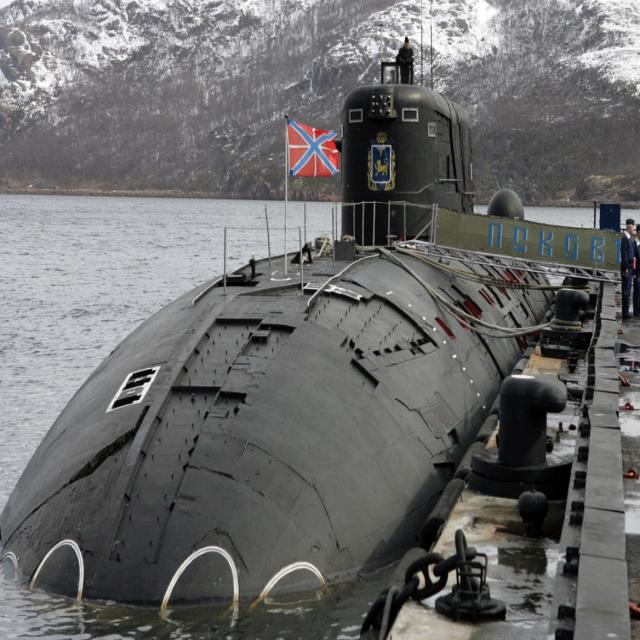submarine: (1, 19, 573, 620)
